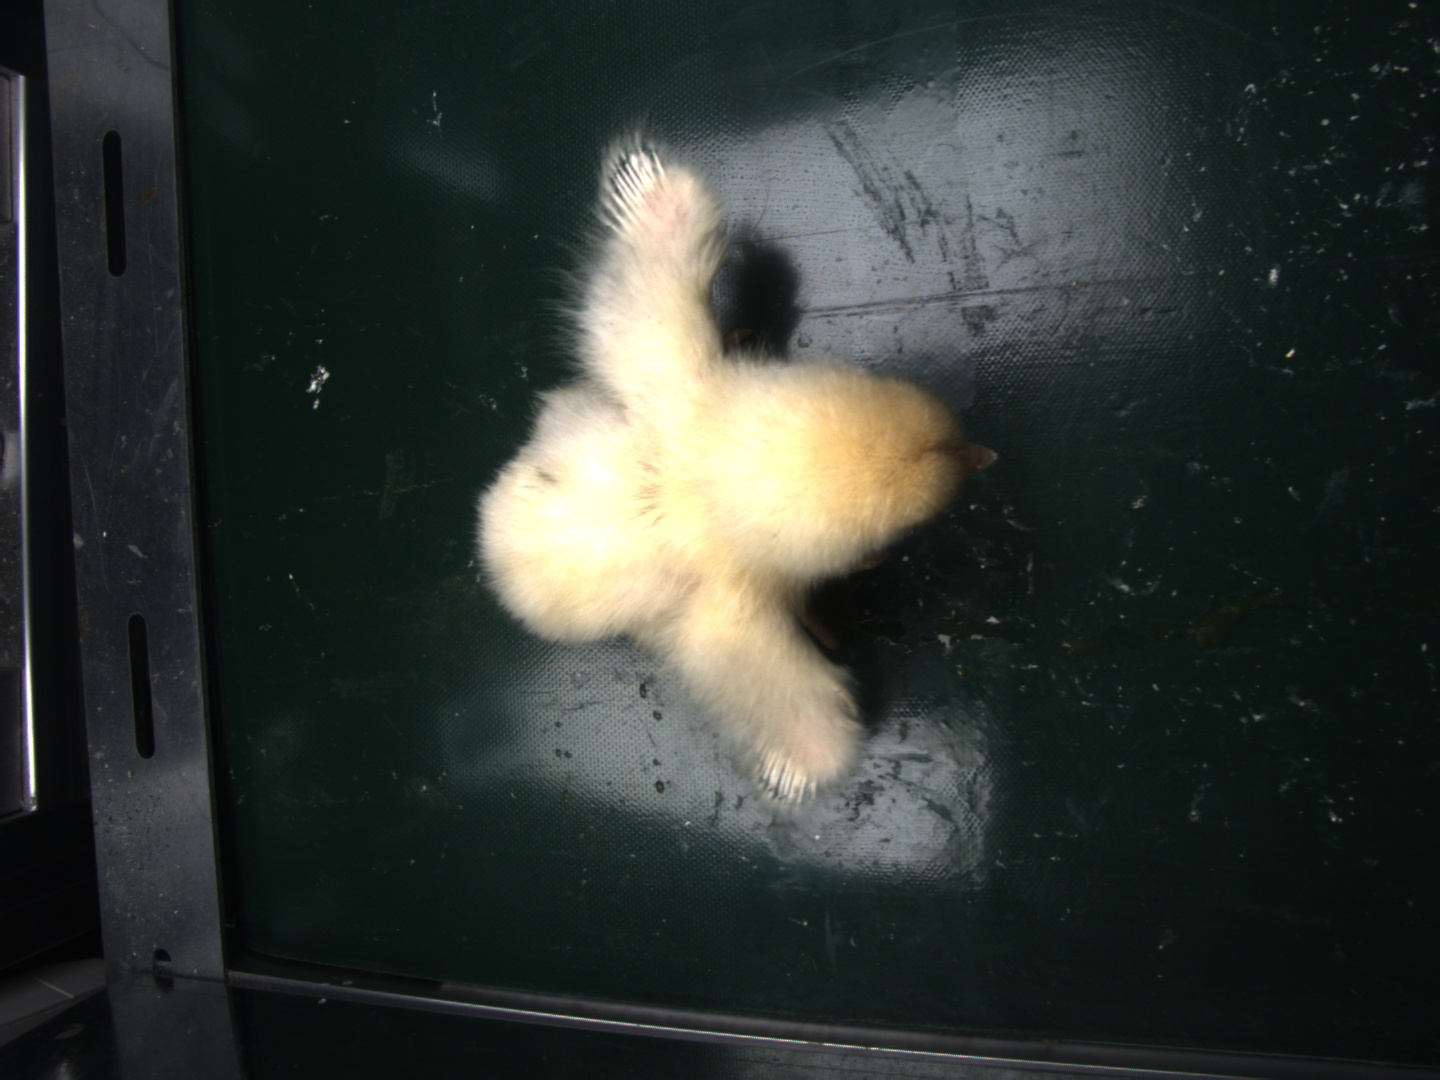male: (601, 147, 667, 228), (757, 741, 818, 809)
